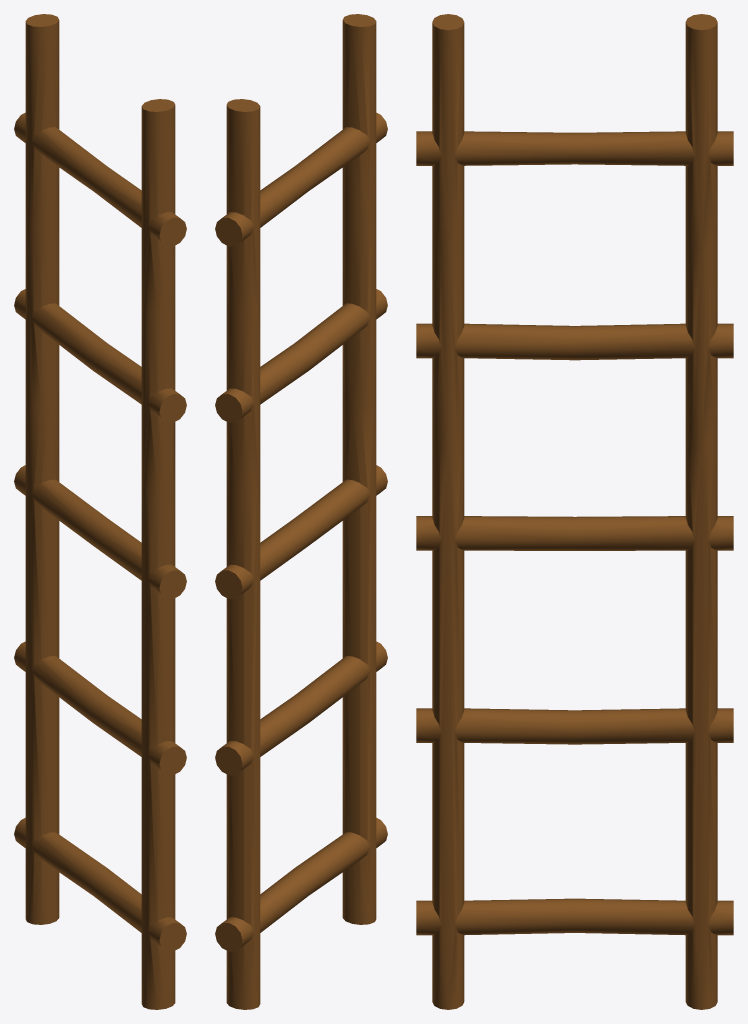
File: decor_ladder.fbx
The picture shows the model from 3 angles, left to right: view 1: azimuth 30°, elevation 25°; view 2: azimuth 150°, elevation 25°; view 3: azimuth 270°, elevation 25°; orthographic projection. The views are drawn at different scales.
Parts seen in each view (by area): view 1: decor_ladder; view 2: decor_ladder; view 3: decor_ladder.
Boxes of the visible parts, left/top/right/bottom form: decor_ladder: left=14, top=14, right=186, bottom=1009; decor_ladder: left=215, top=14, right=387, bottom=1009; decor_ladder: left=416, top=14, right=733, bottom=1009.
Size of the model in its own units: 7.11 by 200 by 58.7.
